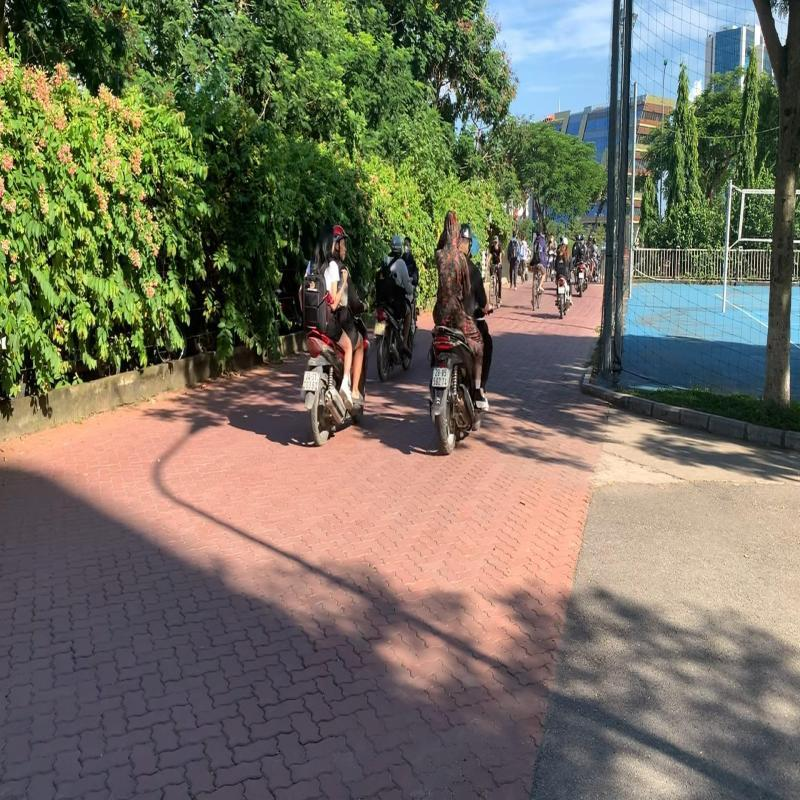helmet: (334, 223, 347, 258)
licenseplate: (302, 370, 320, 392)
motorcyclist: (298, 218, 372, 445)
nohelmet: (316, 226, 334, 254)
